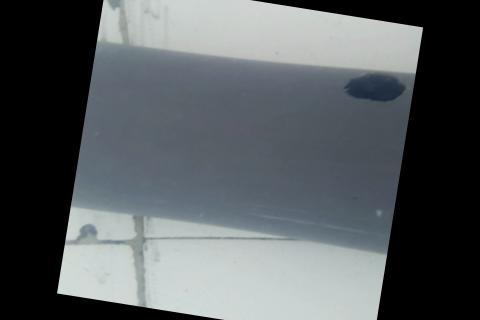kebocoran: (340, 65, 410, 107)
